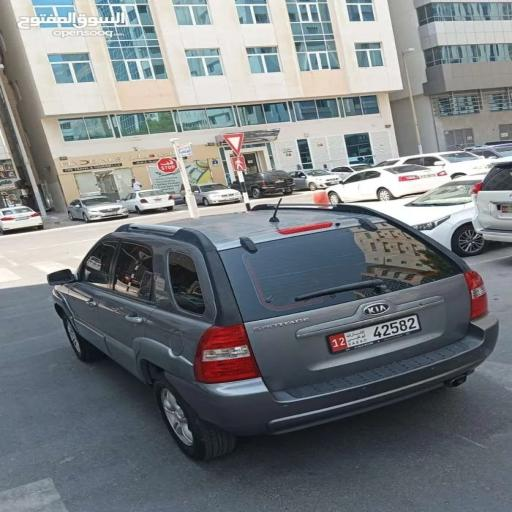license-plates: (328, 315, 420, 352), (502, 206, 511, 213)
